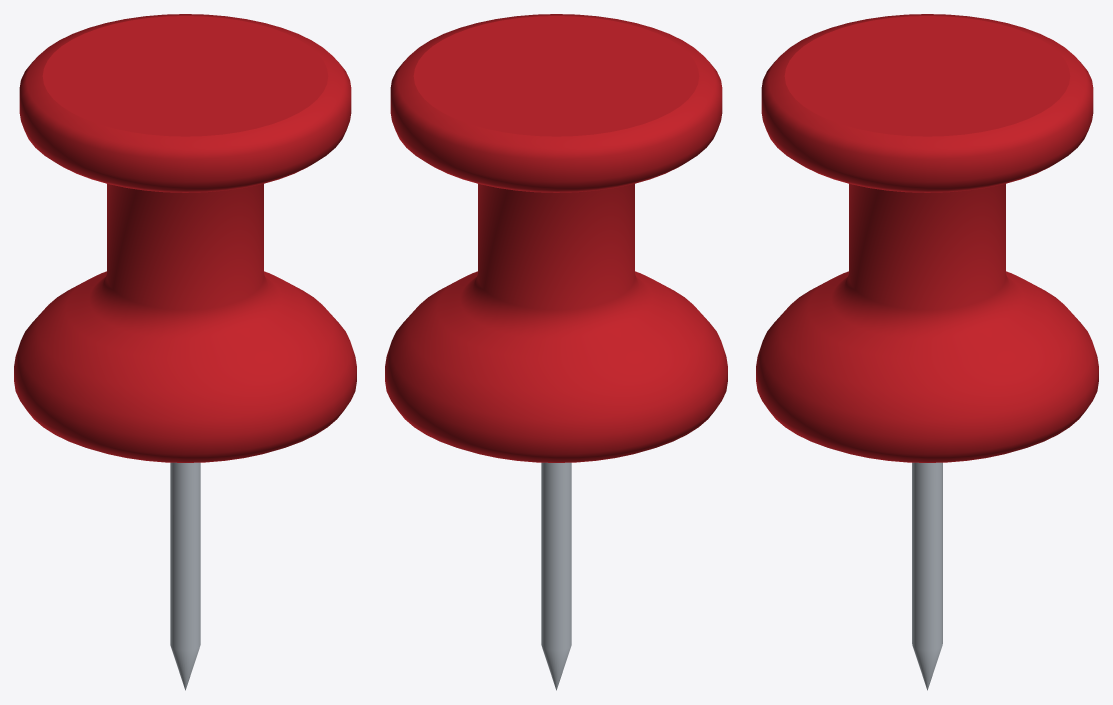
File: pushpin_LOD0.glb
3 renders of one model, left to right at view 1: azimuth 30°, elevation 25°; view 2: azimuth 150°, elevation 25°; view 3: azimuth 270°, elevation 25°, orthographic.
Parts seen in each view (by area): view 1: Molded_plastic_head, Embedded_steel_pin; view 2: Molded_plastic_head, Embedded_steel_pin; view 3: Molded_plastic_head, Embedded_steel_pin.
Boxes of the visible parts, <box> form: Molded_plastic_head: <box>14,14,356,462</box>; Embedded_steel_pin: <box>170,462,200,690</box>; Molded_plastic_head: <box>385,14,727,462</box>; Embedded_steel_pin: <box>541,462,571,690</box>; Molded_plastic_head: <box>756,14,1098,462</box>; Embedded_steel_pin: <box>912,462,942,690</box>.
Size of the model in its own units: 0.0096 by 0.019 by 0.0096.
